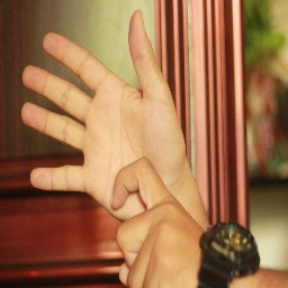R: (16, 9, 202, 287)
